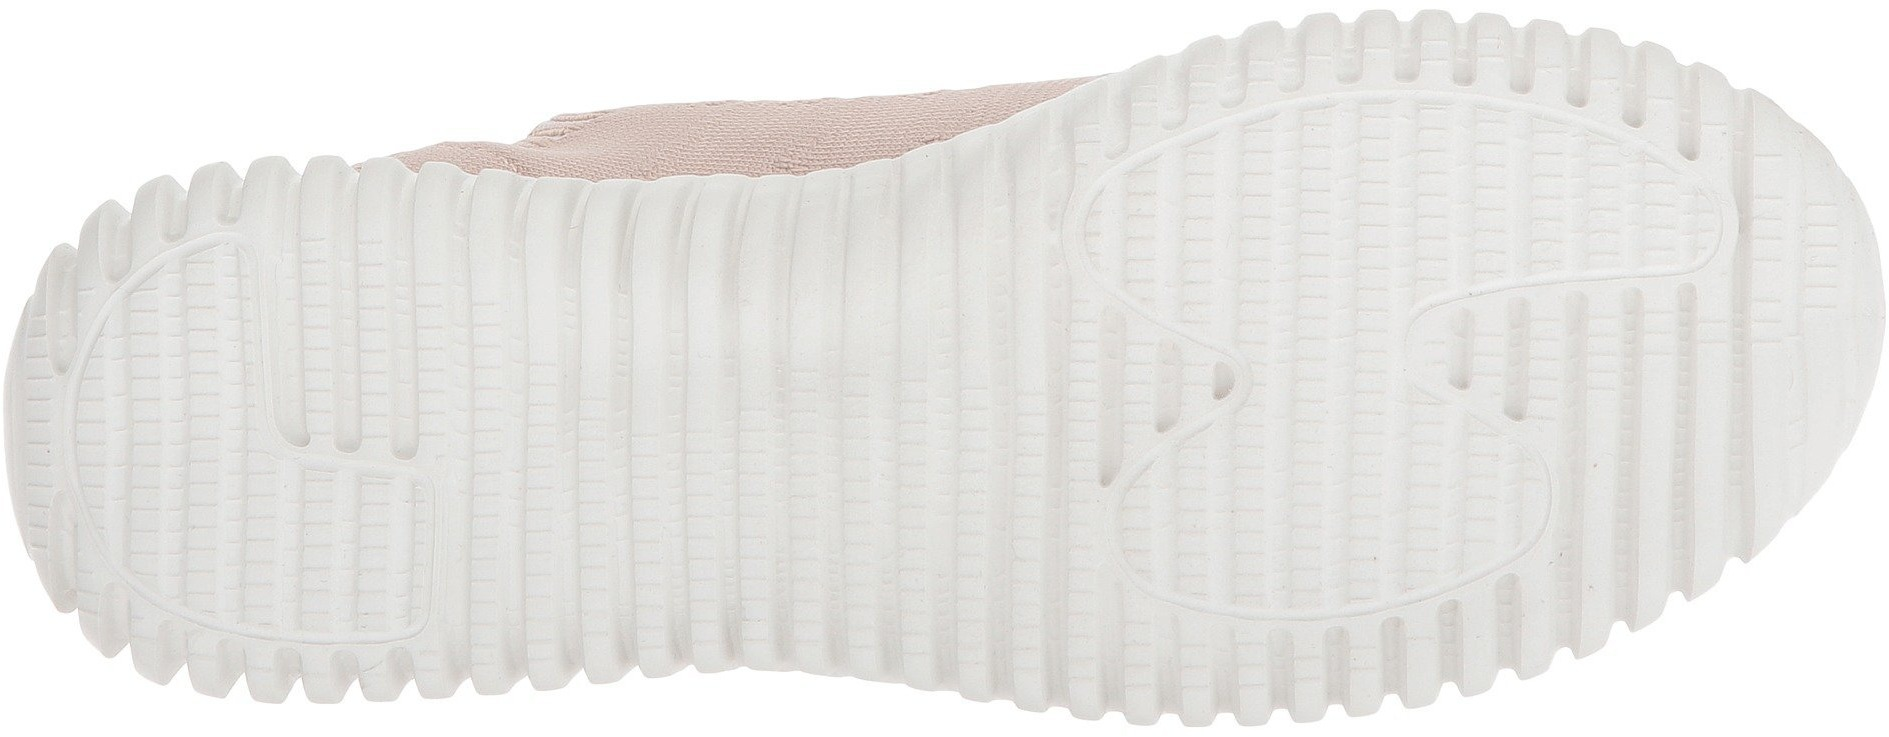quad: (1060, 344, 1403, 689), (1446, 183, 1808, 490), (758, 368, 1037, 651), (20, 337, 294, 621), (1159, 59, 1440, 324), (467, 409, 732, 668), (831, 190, 1019, 359), (293, 258, 490, 412), (551, 197, 713, 364)
